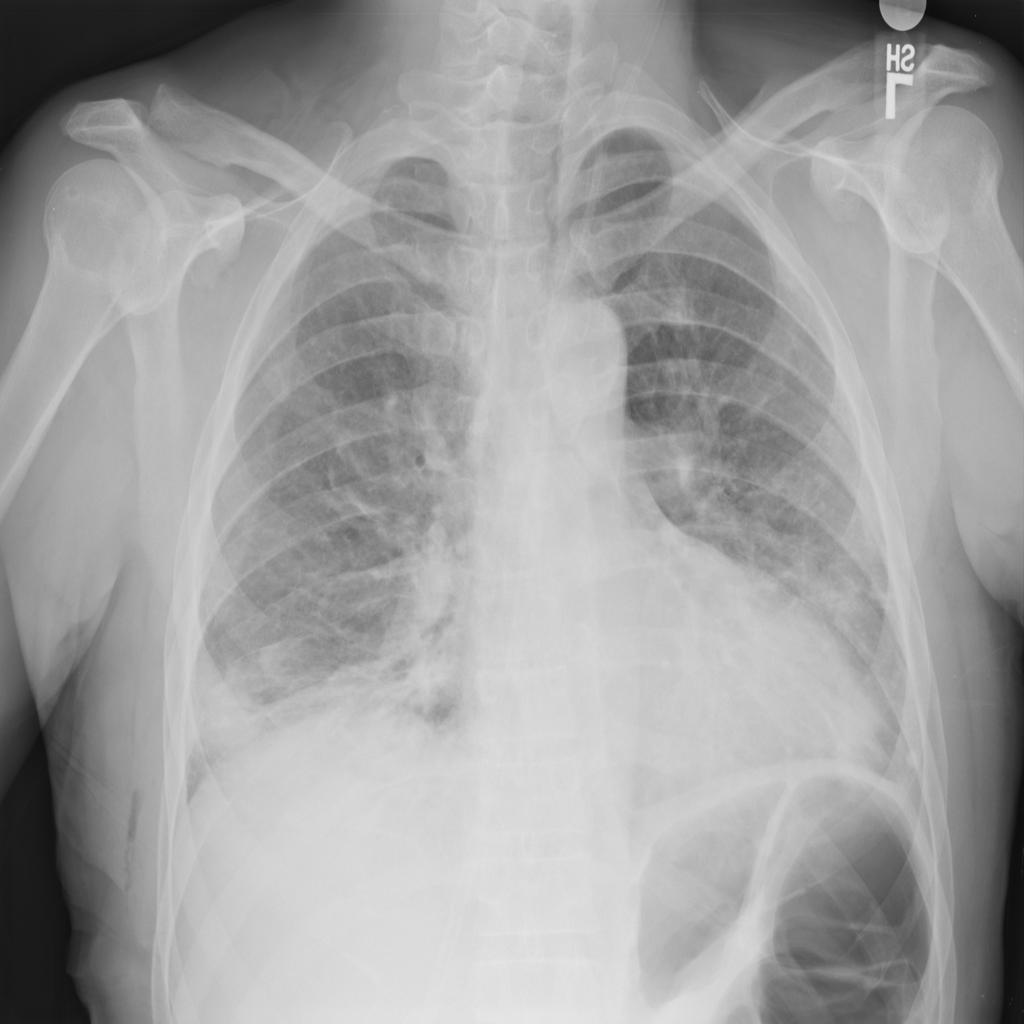nodule: (185, 659, 285, 764), (251, 626, 333, 701)
